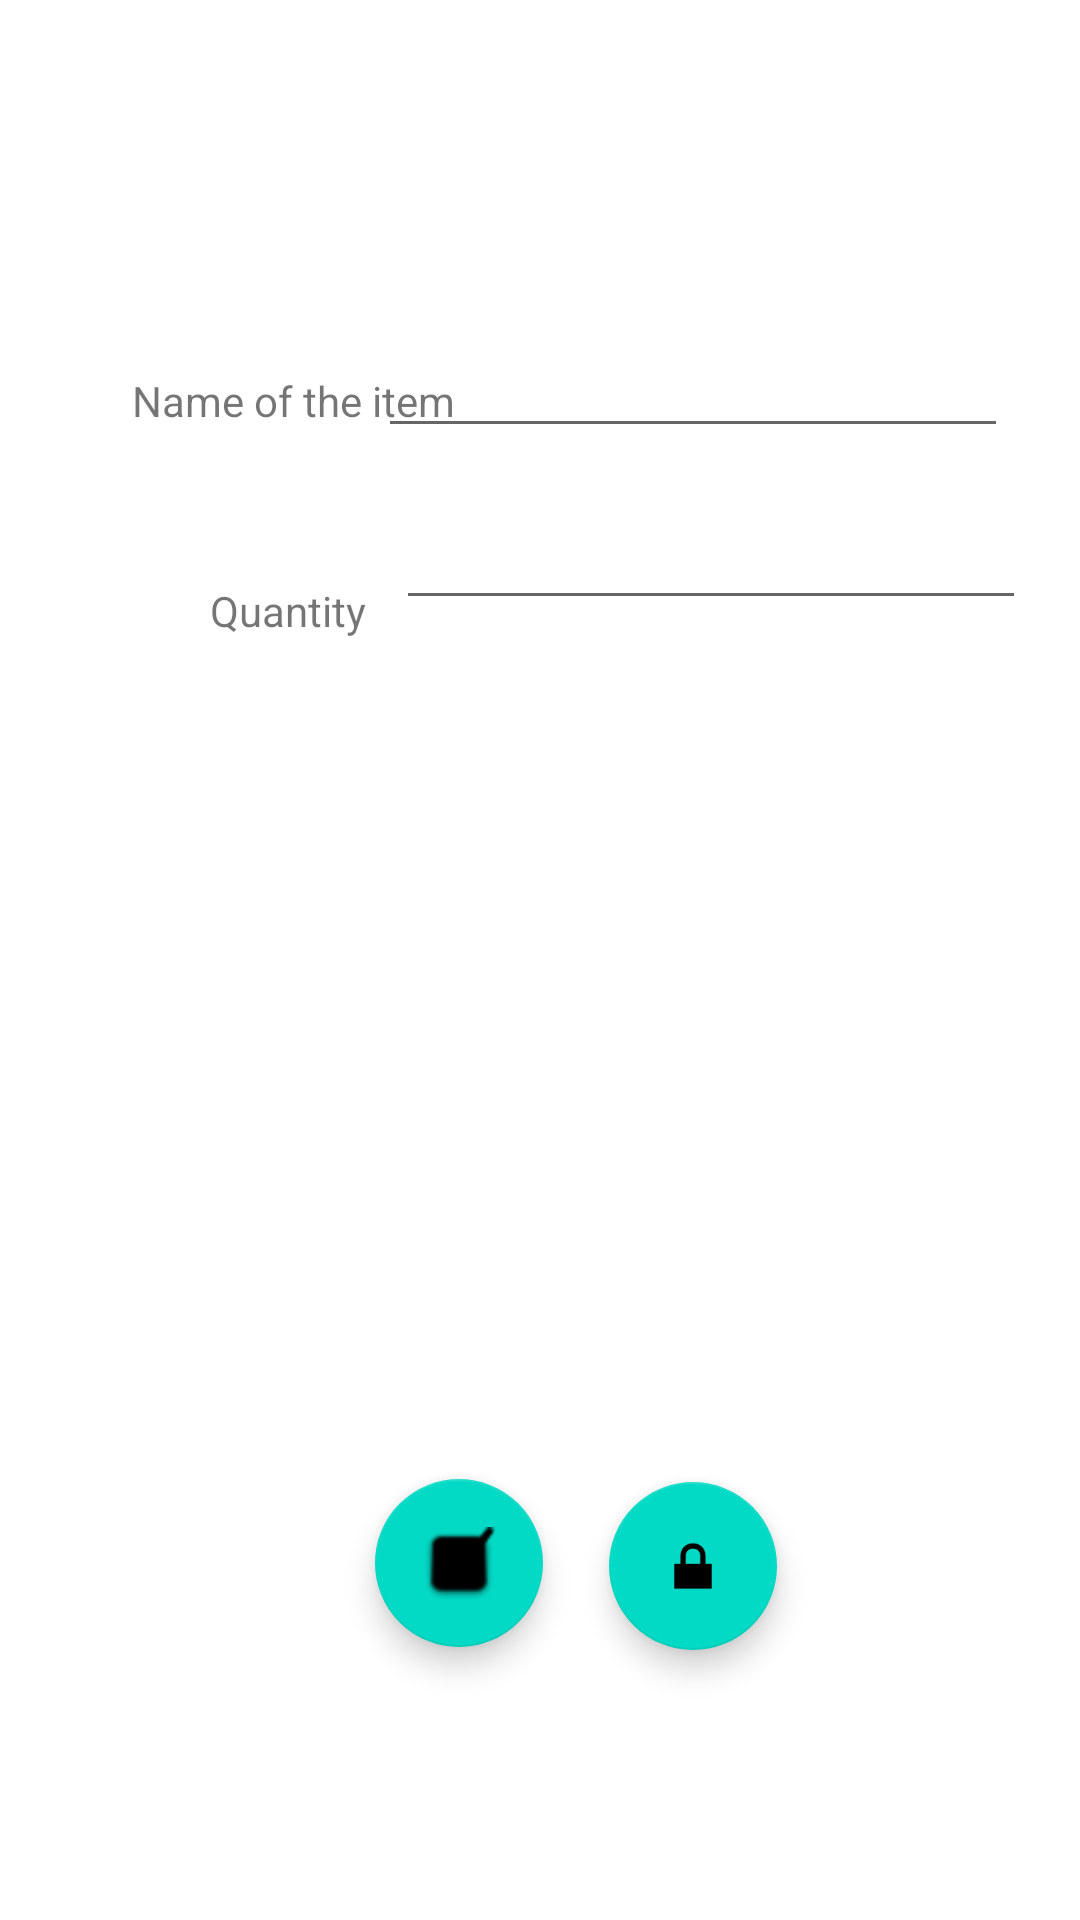

Screen size 1080px x 1920px. Icon name, then its box in pixels as (x1, y1, x2, y2):
lock: (609, 1482, 777, 1650)
